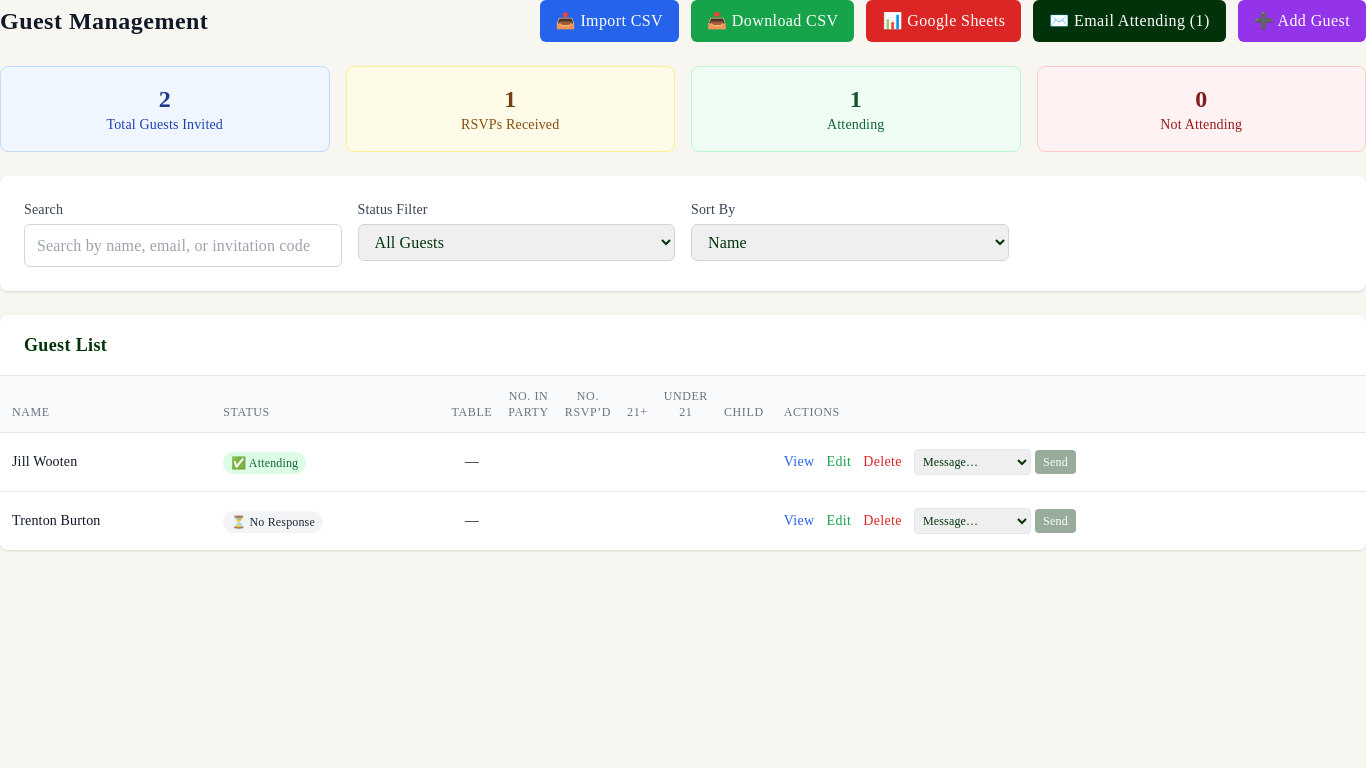
Test: omits the row entirely when there is no song
Expected: the text "Trenton Burton" is shown, [12, 513, 100, 528]
Step 1. Click the button "View" in the row of "Trenton Burton" → {"x": 799, "y": 521}, box [784, 511, 815, 531]
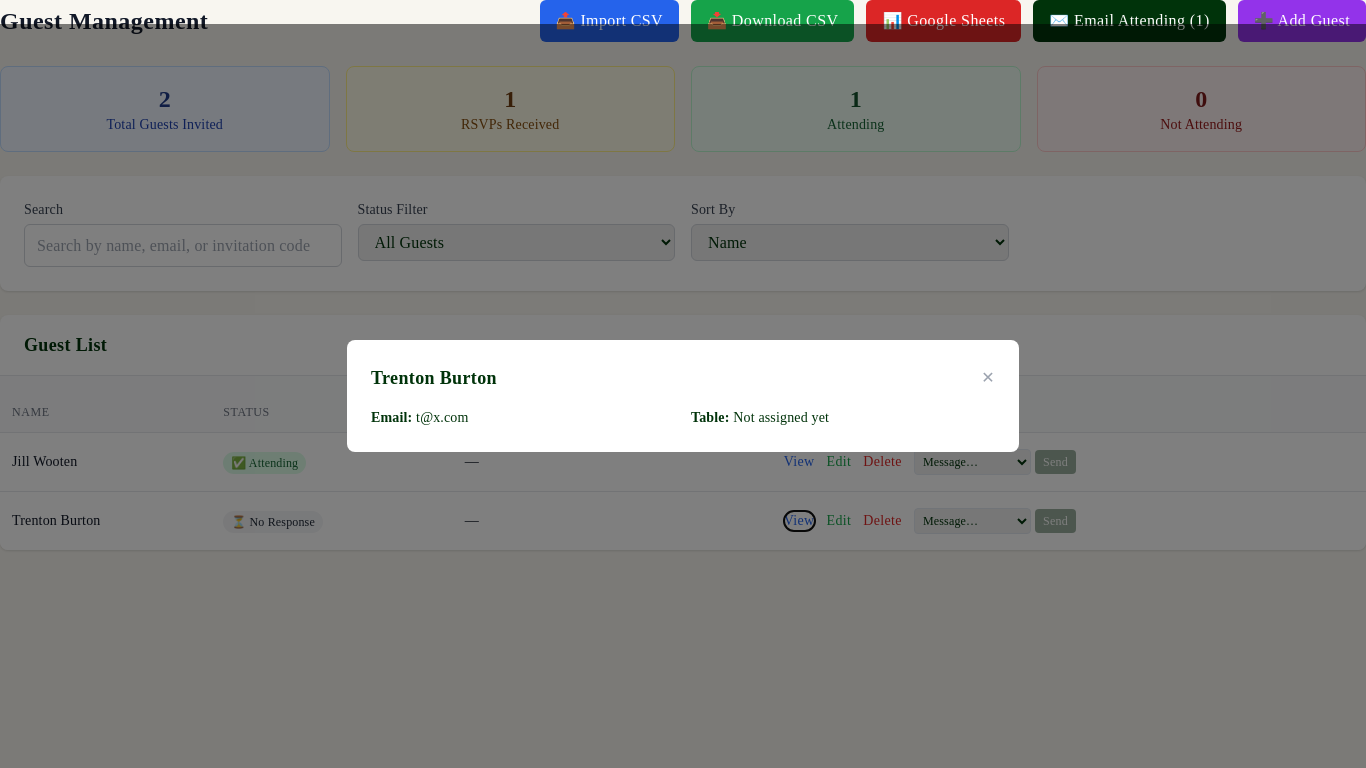
Now the heading "Trenton Burton" is shown, box [371, 364, 497, 392]
